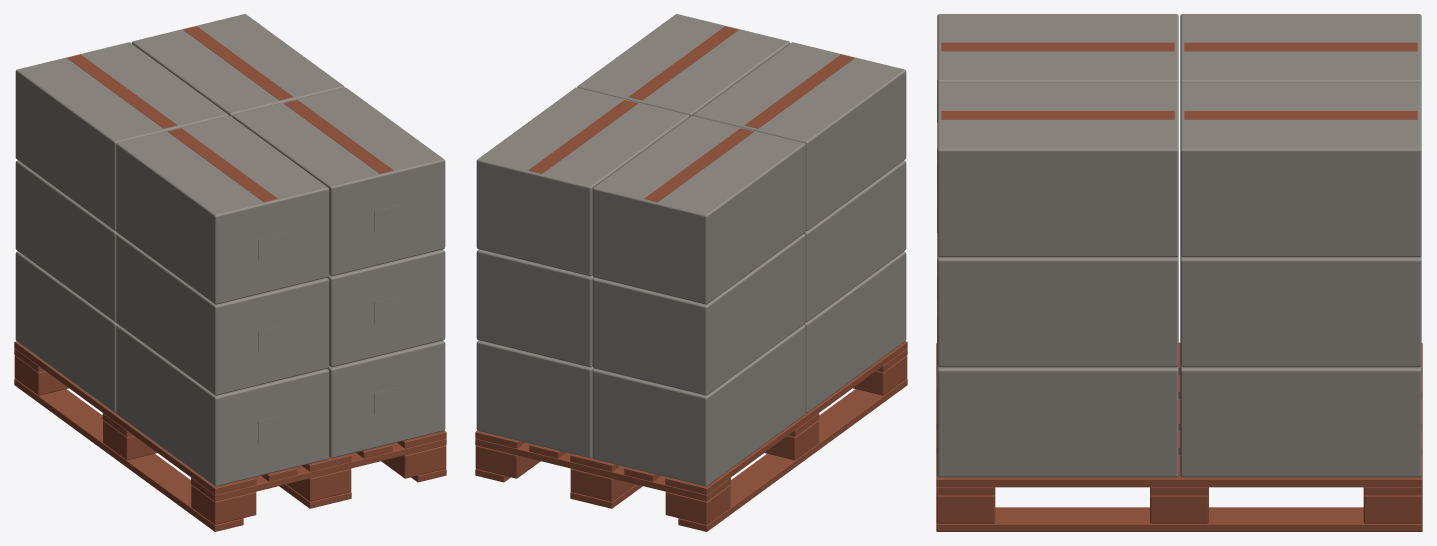
The model's file is palletised_carton_load_body.glb.
3 views of the same model, side by side, from view 1: azimuth 30°, elevation 25°; view 2: azimuth 150°, elevation 25°; view 3: azimuth 270°, elevation 25° (orthographic). The views are drawn at different scales.
Parts seen in each view (by area): view 1: palletised_carton_load_body_plastic, palletised_carton_load_body_accent; view 2: palletised_carton_load_body_plastic, palletised_carton_load_body_accent; view 3: palletised_carton_load_body_plastic, palletised_carton_load_body_accent.
Part boxes in pixels (x1,y1,x2,y2): palletised_carton_load_body_plastic: (15, 14, 445, 486); palletised_carton_load_body_accent: (14, 26, 446, 531); palletised_carton_load_body_plastic: (476, 14, 906, 486); palletised_carton_load_body_accent: (475, 26, 907, 531); palletised_carton_load_body_plastic: (937, 14, 1421, 477); palletised_carton_load_body_accent: (936, 42, 1422, 531).
Size of the model in its own units: 0.8 by 1.04 by 1.2.
